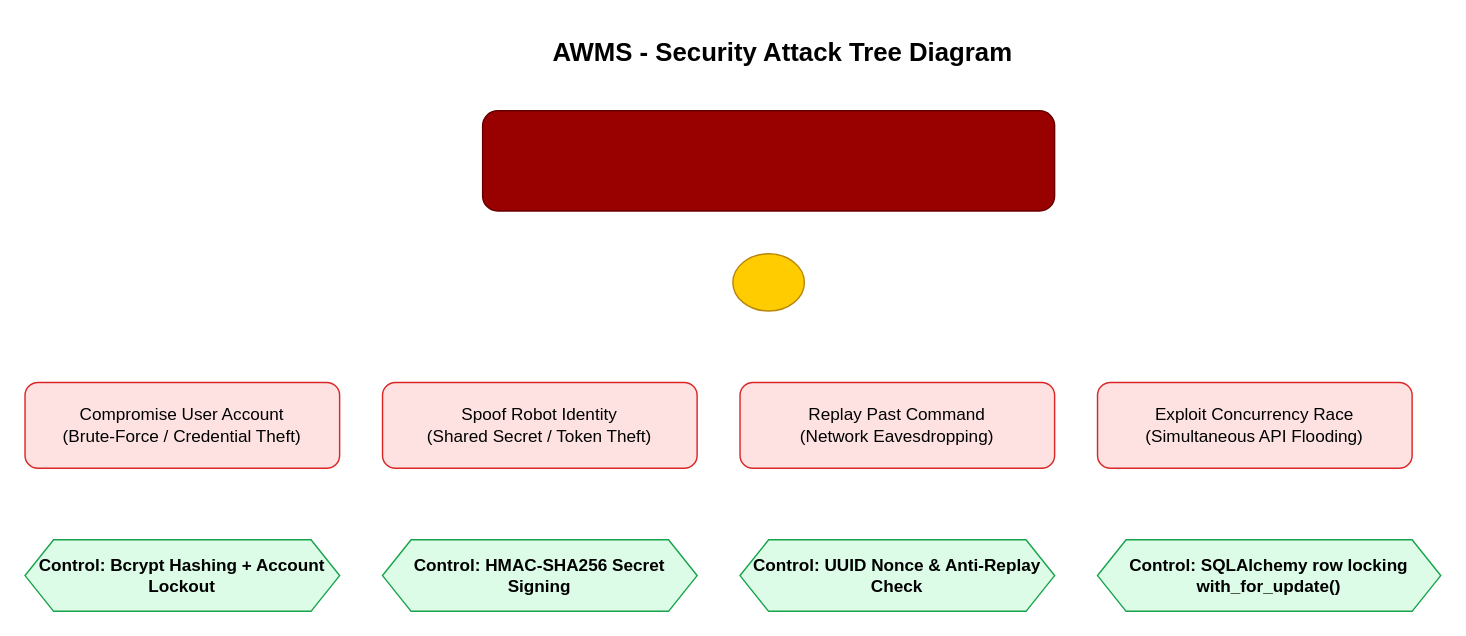
Image size: 1466x636. Some labels were removed from this diagram. The shapes that lost their labels are listed below. From the top down, each one's centre as x and y in pixels, then its label:
the point at 768,160: ROOT GOAL: Unauthorized Robot Operation & Warehouse Movement
the point at 767,281: OR
